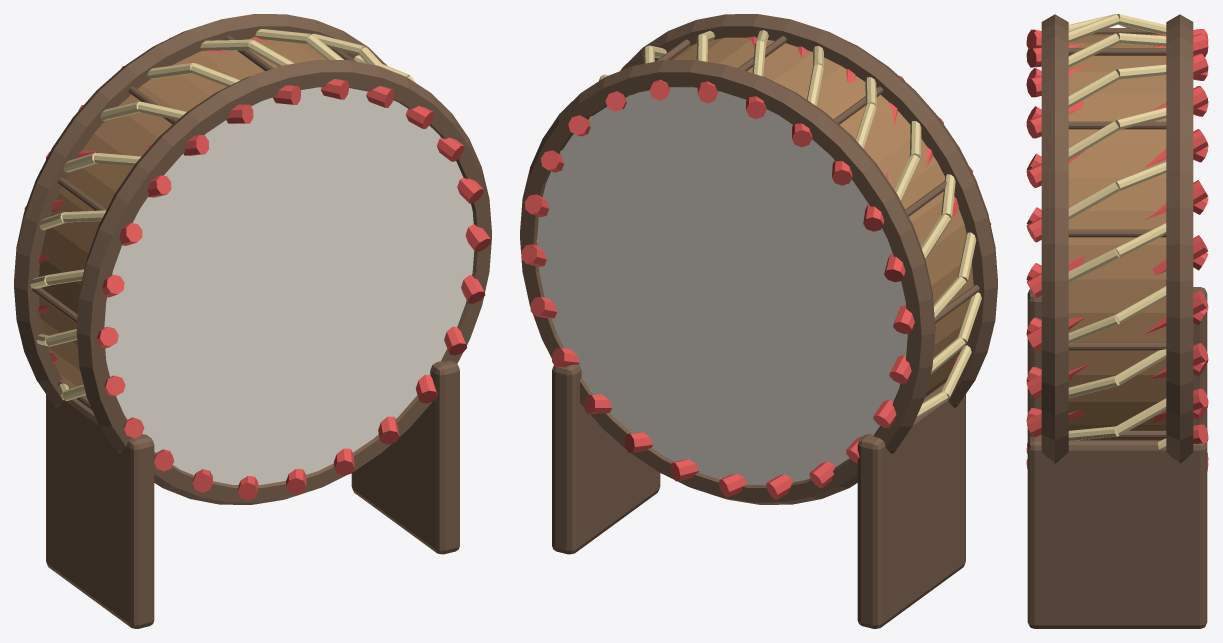
Rendered from gakki_shime_daiko.glb.
3 renders of one model, left to right at view 1: azimuth 30°, elevation 25°; view 2: azimuth 150°, elevation 25°; view 3: azimuth 270°, elevation 25°, orthographic.
Parts seen in each view (by area): view 1: Shime-daiko taut double-headed taut drum skin, Shime-daiko taut double-headed leather head rim, Lacquered shime daiko stand, Shime-daiko taut double-headed hardwood shell, Shime-daiko taut double-headed leather head rim.001, Lacquered shime daiko stand.001; view 2: Shime-daiko taut double-headed taut drum skin.001, Shime-daiko taut double-headed leather head rim.001, Lacquered shime daiko stand, Shime-daiko taut double-headed hardwood shell, Shime-daiko taut double-headed leather head rim, Lacquered shime daiko stand.001; view 3: Lacquered shime daiko stand.001, Shime-daiko taut double-headed hardwood shell, Shime-daiko taut double-headed leather head rim, Shime-daiko taut double-headed leather head rim.001, Lacquered shime daiko stand, Shime-daiko taut double-headed wood grain, Shime-daiko taut double-headed wood grain.001, Shime-daiko taut double-headed tightening rope_00.004, Shime-daiko taut double-headed tightening rope_01, Shime-daiko taut double-headed tightening rope_00.003, Shime-daiko taut double-headed tightening rope_00.005, Shime-daiko taut double-headed tightening rope_01.001 (+36 smaller).
Part boxes in pixels (x1,y1,x2,y2): Shime-daiko taut double-headed taut drum skin: (104, 87, 474, 484); Shime-daiko taut double-headed leather head rim: (76, 60, 491, 504); Lacquered shime daiko stand: (46, 394, 154, 628); Shime-daiko taut double-headed hardwood shell: (39, 39, 326, 396); Shime-daiko taut double-headed leather head rim.001: (14, 14, 387, 407); Lacquered shime daiko stand.001: (351, 360, 459, 554); Shime-daiko taut double-headed taut drum skin.001: (537, 87, 907, 484); Shime-daiko taut double-headed leather head rim.001: (520, 60, 935, 504); Lacquered shime daiko stand: (857, 394, 965, 628); Shime-daiko taut double-headed hardwood shell: (671, 37, 973, 396); Shime-daiko taut double-headed leather head rim: (620, 14, 997, 407); Lacquered shime daiko stand.001: (552, 364, 660, 554); Lacquered shime daiko stand.001: (1027, 435, 1207, 628); Shime-daiko taut double-headed hardwood shell: (1068, 34, 1166, 440); Shime-daiko taut double-headed leather head rim: (1041, 14, 1068, 463); Shime-daiko taut double-headed leather head rim.001: (1166, 14, 1193, 463); Lacquered shime daiko stand: (1027, 287, 1207, 441); Shime-daiko taut double-headed wood grain: (1068, 342, 1166, 350); Shime-daiko taut double-headed wood grain.001: (1068, 229, 1166, 237); Shime-daiko taut double-headed tightening rope_00.004: (1068, 70, 1119, 107); Shime-daiko taut double-headed tightening rope_01: (1115, 286, 1166, 323); Shime-daiko taut double-headed tightening rope_00.003: (1068, 121, 1119, 159); Shime-daiko taut double-headed tightening rope_00.005: (1068, 33, 1119, 67); Shime-daiko taut double-headed tightening rope_01.001: (1115, 222, 1166, 257).
Bounding box in the file's own units: 1.63 × 1.95 × 0.6217.
